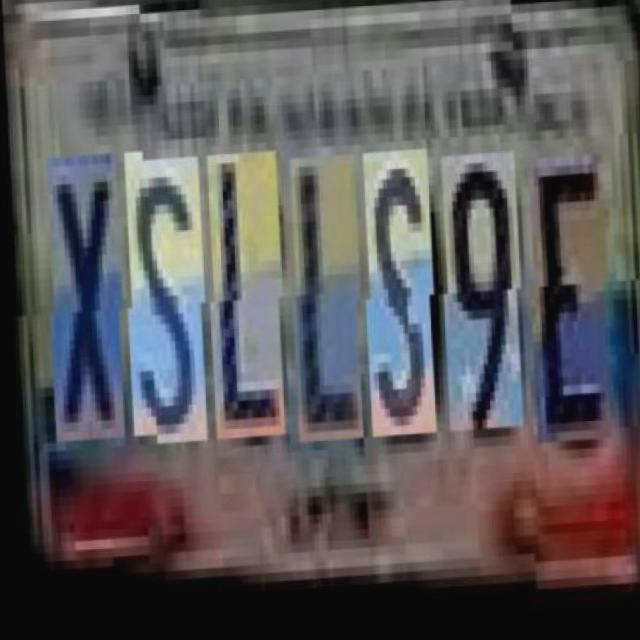9: (439, 158, 523, 438)
e: (526, 153, 610, 442)
l: (204, 155, 285, 443), (288, 159, 364, 447)
s: (123, 159, 207, 447), (361, 155, 436, 443)
x: (45, 163, 126, 452)
